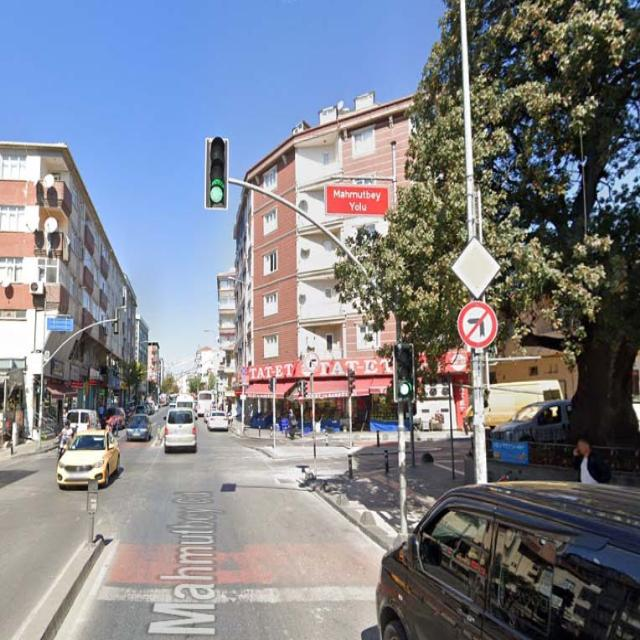sagadonulmez: (306, 352, 319, 372)
soladonulmez: (458, 301, 498, 349)
yesil: (206, 138, 230, 212), (392, 343, 414, 403)
